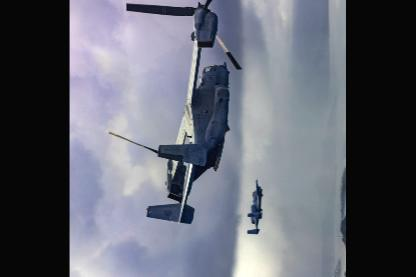A10: (246, 177, 262, 233)
Tornado: (108, 0, 242, 224)
